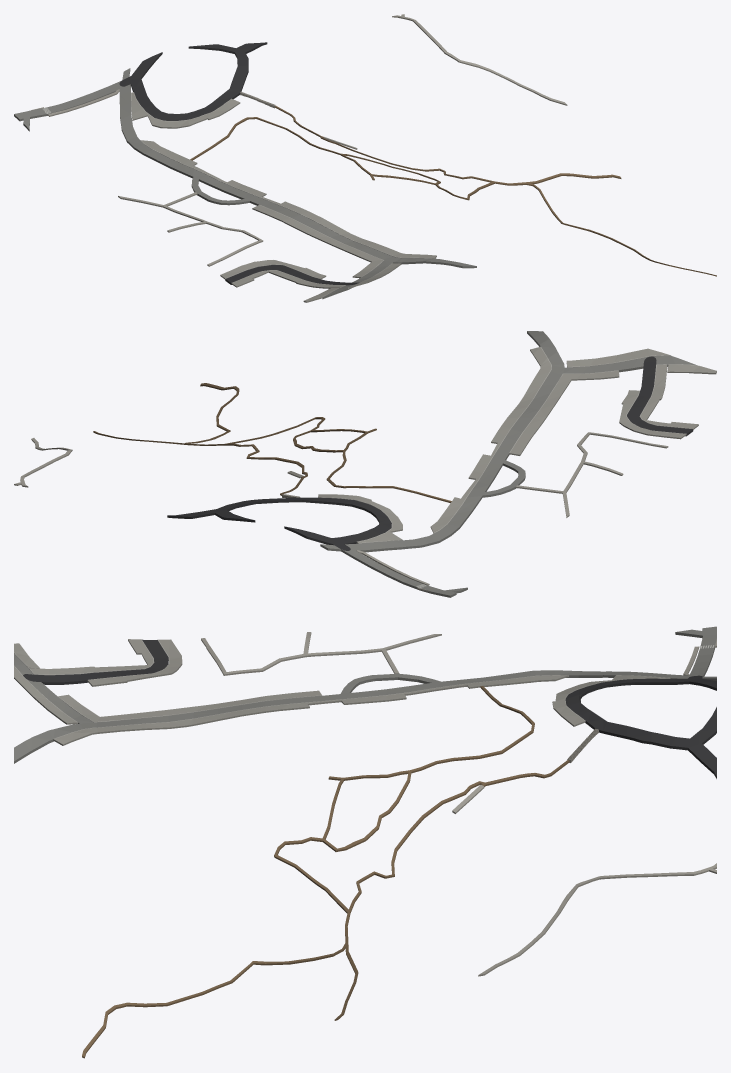
3 views of the same model, one above another, from view 1: azimuth 30°, elevation 25°; view 2: azimuth 150°, elevation 25°; view 3: azimuth 270°, elevation 25° (orthographic). The views are drawn at different scales.
Bounding box in the file's own units: 293 × 76.55 × 292.
